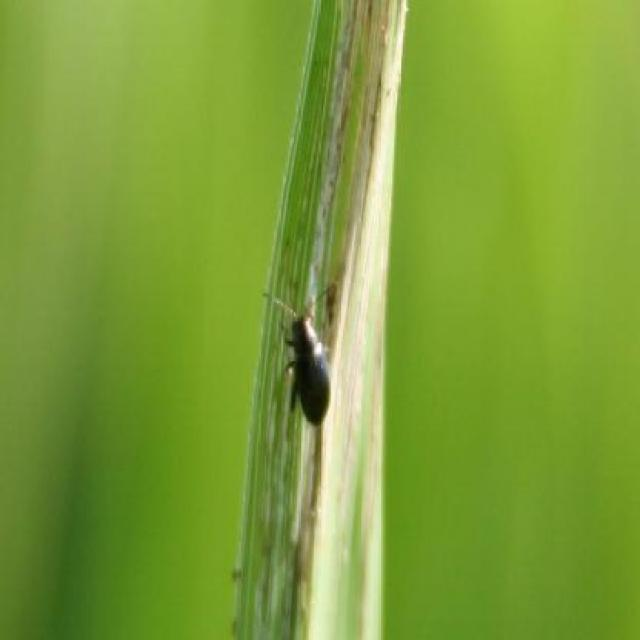rice-bug: (281, 288, 337, 429)
